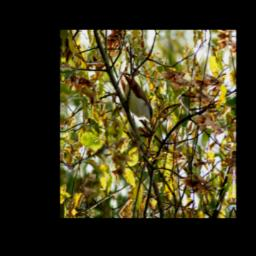Cuckoo: (120, 65, 157, 131)
